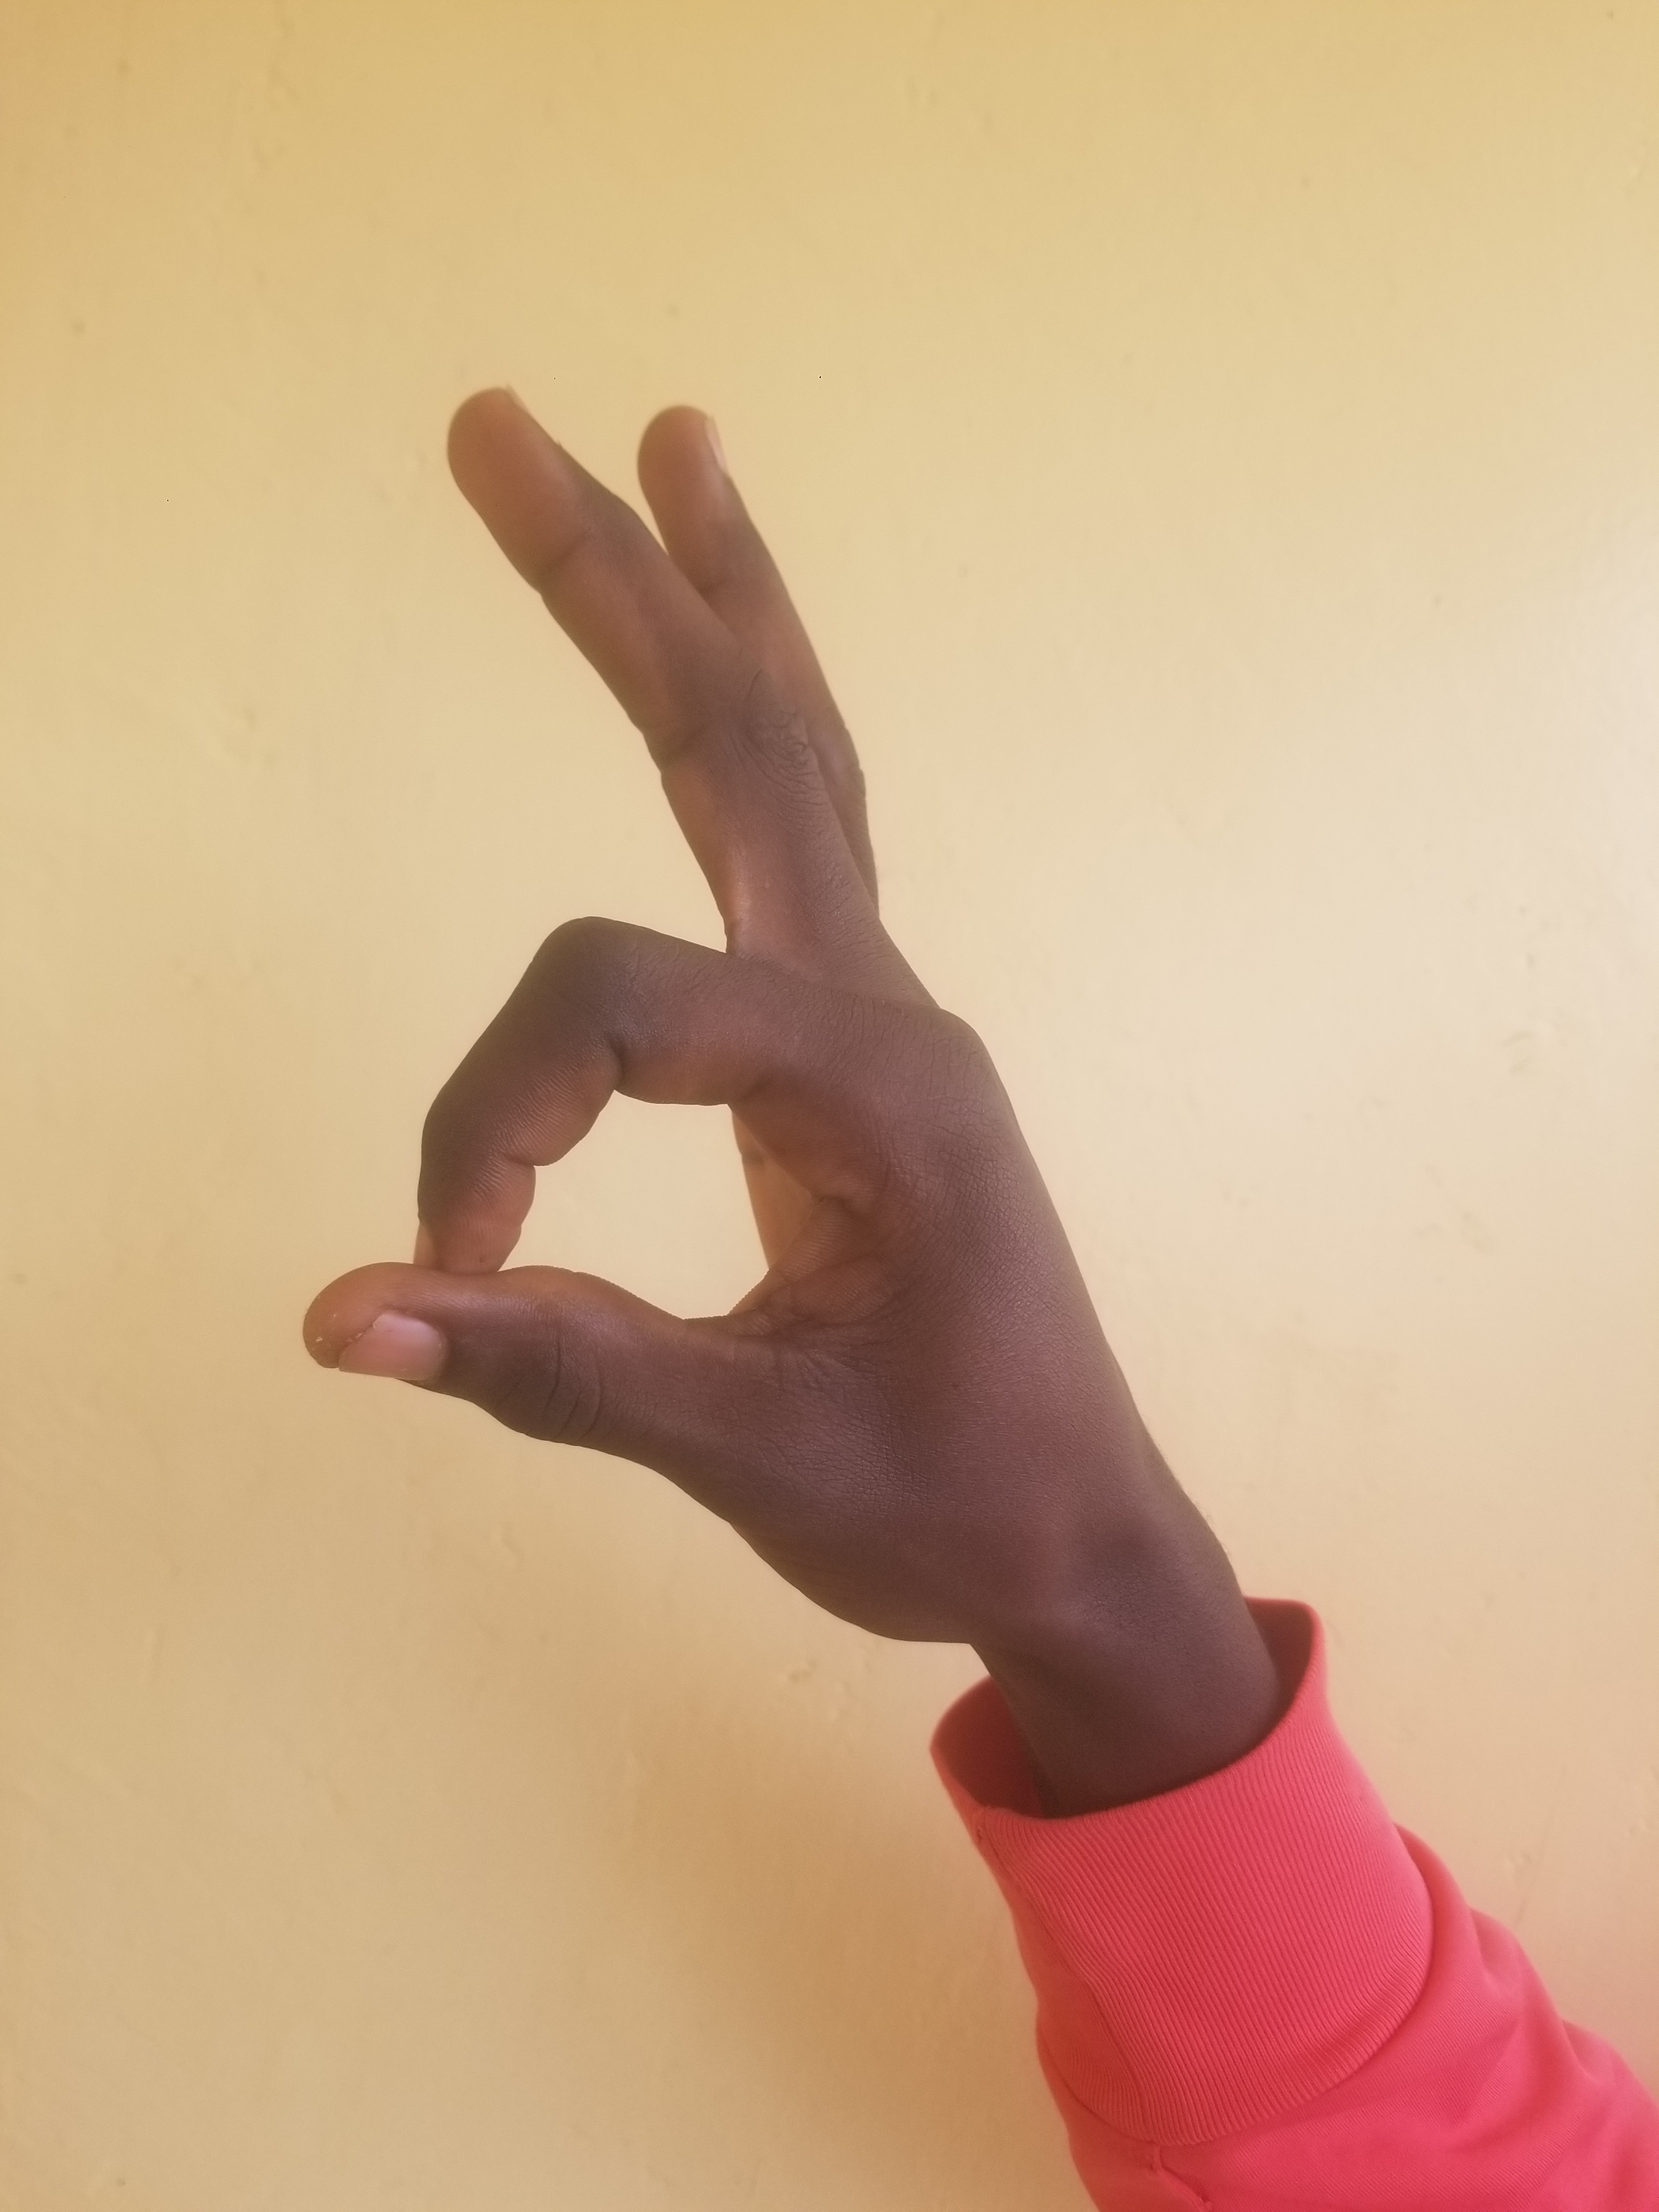ok: (178, 207, 1441, 1787)
